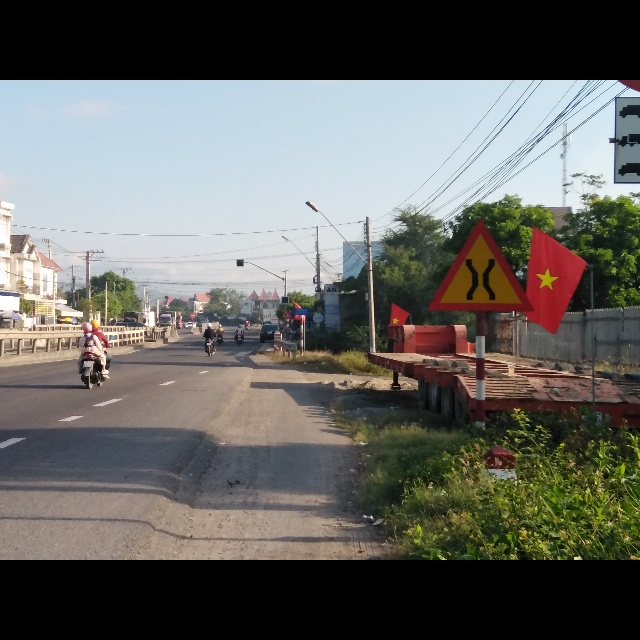Cầu hẹp: (425, 218, 531, 312)
